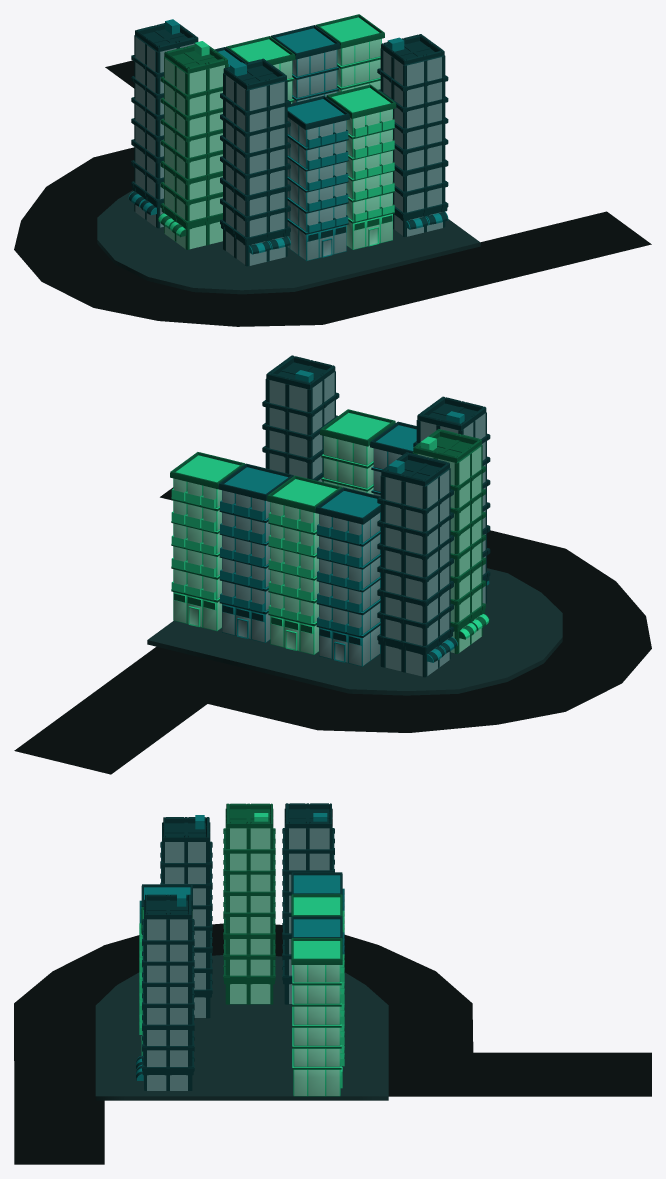
The model's file is cityview_M_v1_athena.FBX.
3 renders of one model, top to bottom at view 1: azimuth 30°, elevation 25°; view 2: azimuth 150°, elevation 25°; view 3: azimuth 270°, elevation 25°, orthographic. The views are drawn at different scales.
Parts seen in each view (by area): view 1: road, sidewalk, large001, large002, large003, small004, small005, large, small002, small003, small001; view 2: road, sidewalk, large, small, small002, small001, small003, large002, large003, small005, large001, small004; view 3: road, sidewalk, large002, large003, small003, large001, large, small, small001, small002, small004.
Part boxes in pixels (left/top/right/bottom): road: left=14, top=60, right=651, bottom=326; sidewalk: left=97, top=190, right=480, bottom=294; large001: left=220, top=58, right=290, bottom=266; large002: left=158, top=41, right=228, bottom=249; large003: left=377, top=34, right=448, bottom=236; small004: left=287, top=95, right=349, bottom=261; small005: left=326, top=84, right=396, bottom=249; large: left=128, top=19, right=198, bottom=228; small002: left=271, top=25, right=340, bottom=103; small003: left=315, top=14, right=384, bottom=92; small001: left=226, top=36, right=295, bottom=103; road: left=14, top=487, right=651, bottom=774; sidewalk: left=147, top=568, right=562, bottom=695; large: left=377, top=452, right=457, bottom=677; small: left=315, top=487, right=380, bottom=666; small002: left=218, top=463, right=293, bottom=642; small001: left=267, top=475, right=342, bottom=654; small003: left=170, top=452, right=245, bottom=631; large002: left=412, top=429, right=489, bottom=653; large003: left=262, top=355, right=339, bottom=482; small005: left=320, top=409, right=395, bottom=494; large001: left=413, top=396, right=490, bottom=603; small004: left=370, top=421, right=416, bottom=496; road: left=14, top=923, right=651, bottom=1164; sidewalk: left=95, top=955, right=388, bottom=1100; large002: left=223, top=803, right=275, bottom=1004; large003: left=136, top=892, right=194, bottom=1090; small003: left=291, top=938, right=344, bottom=1096; large001: left=160, top=815, right=212, bottom=1018; large: left=282, top=803, right=334, bottom=1004; small: left=291, top=872, right=344, bottom=910; small001: left=291, top=894, right=344, bottom=932; small002: left=291, top=916, right=344, bottom=954; small004: left=139, top=884, right=192, bottom=923.
Bounding box in the file's own units: 12319 × 4507 × 13701.
